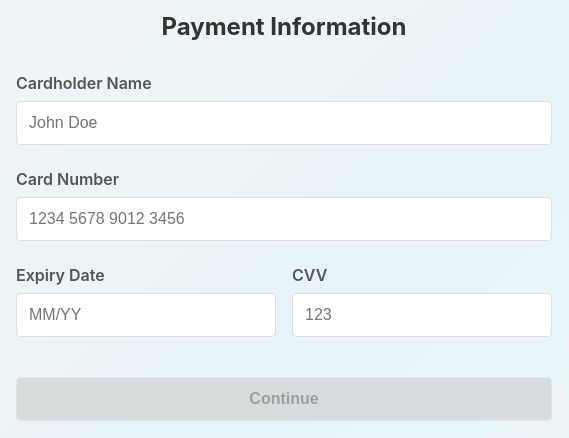
Test: CreditCardStep › should limit card number to 16 digits
Type "12345678901234567890" into the field labelled "Card Number" at (284, 219), box top-left (16, 197), bottom-right (552, 241)
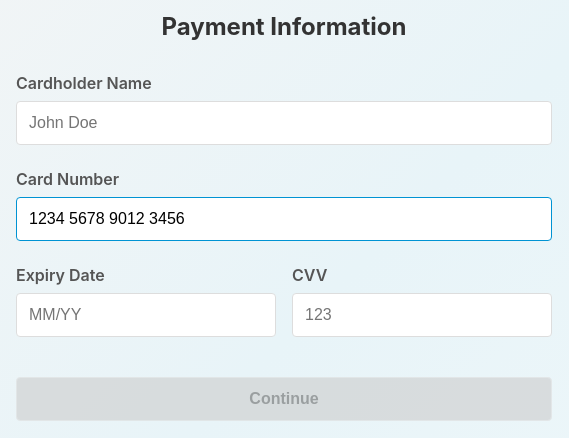
Now the field labelled "Card Number" holds "1234 5678 9012 3456", box top-left (16, 197), bottom-right (552, 241)
